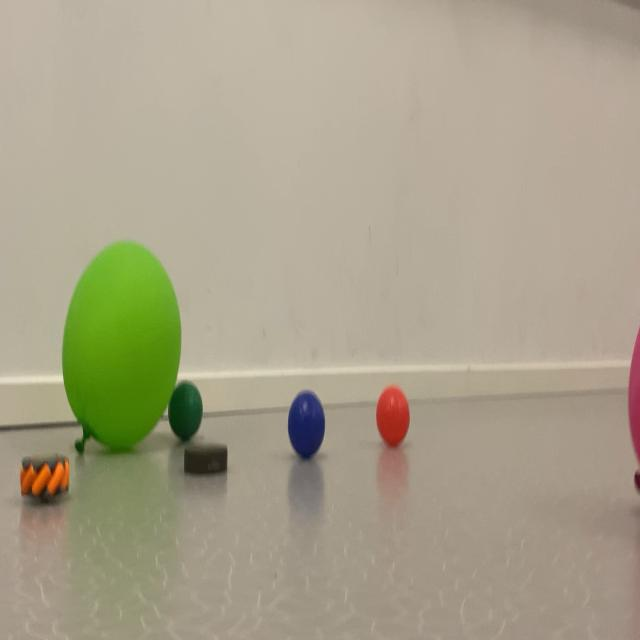blue ball: (166, 360, 418, 451)
